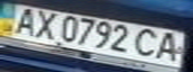0: (54, 14, 81, 44)
2: (109, 21, 136, 55)
7: (75, 16, 96, 46)
9: (90, 19, 115, 52)
A: (151, 30, 187, 63), (6, 6, 42, 36)
C: (130, 26, 163, 60)
X: (27, 9, 63, 39)
